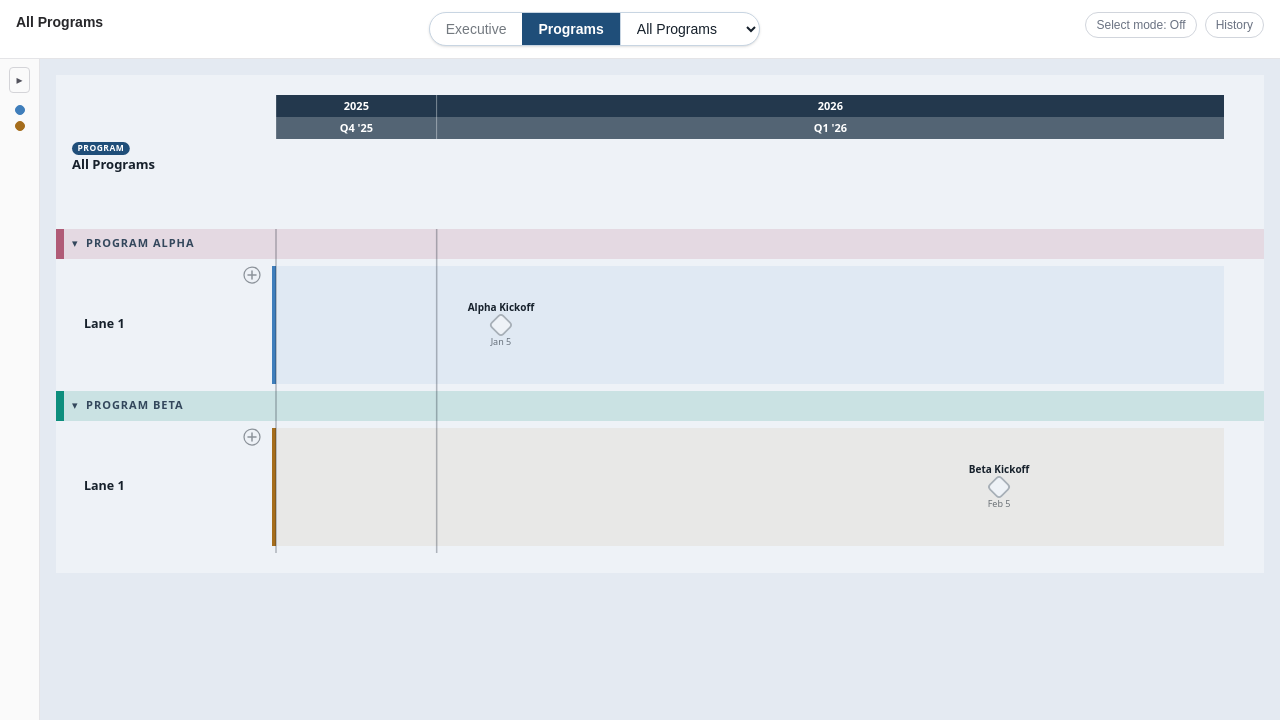
AllProgramsPage — Version History (wayframe#128, #127's Variant B) › selecting a Version swaps the canvas in place, leaving the list on screen
The image size is (1280, 720).
Click the button named "Open the Programs rail" at (20, 80), box [10,67,30,93]
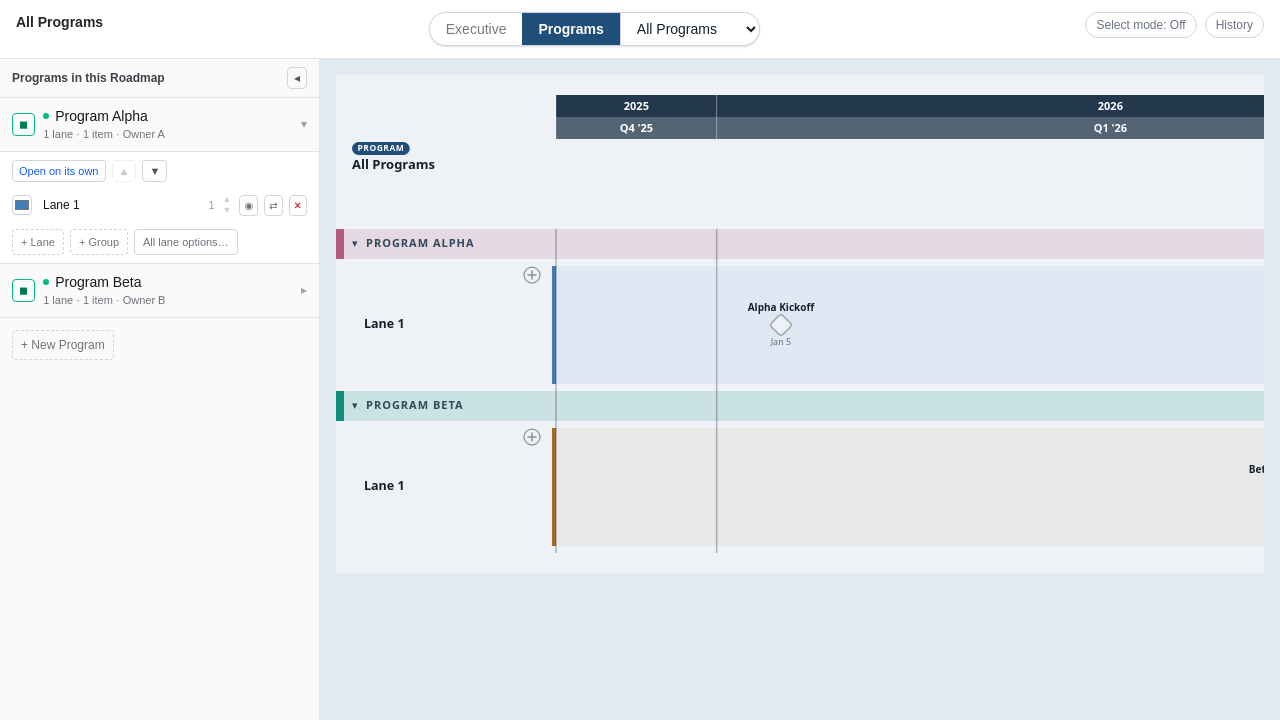
Click the button "History" at (1234, 25), box [1205,12,1264,38]
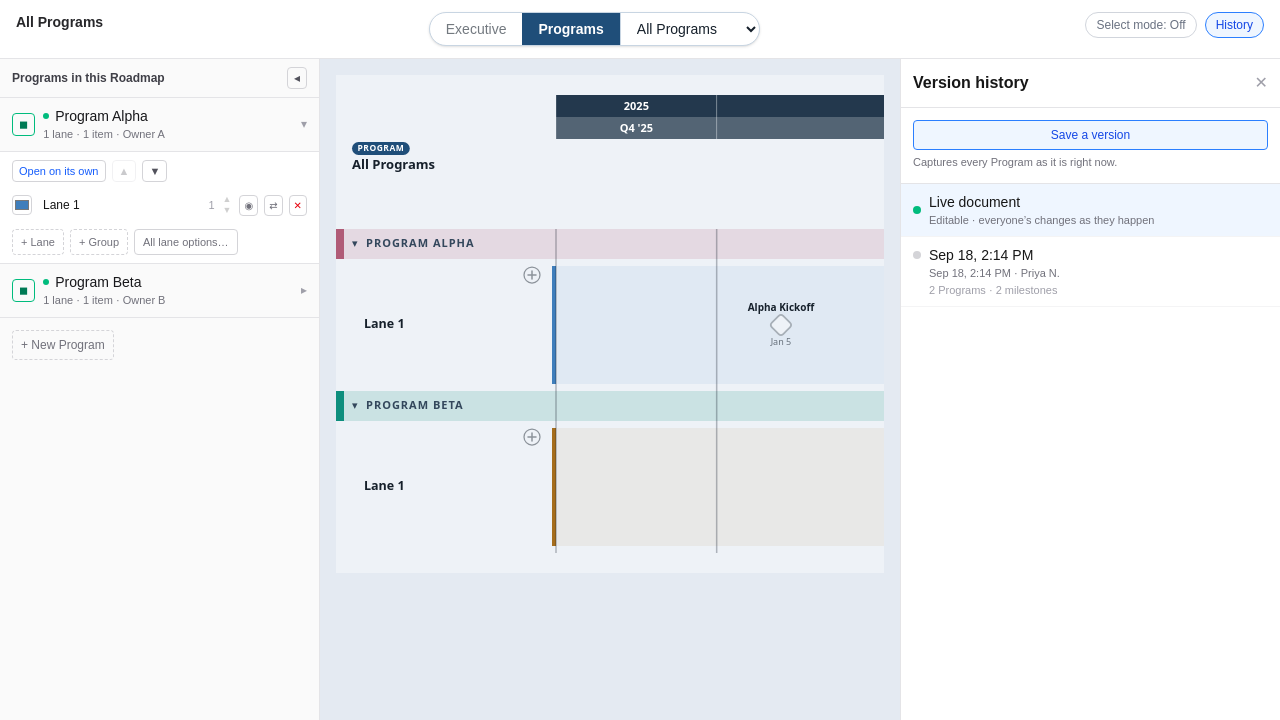
Now the text "2 Programs · 2 milestones" is shown
Click the text "2 Programs · 2 milestones" at (993, 290), box [929,284,1057,296]
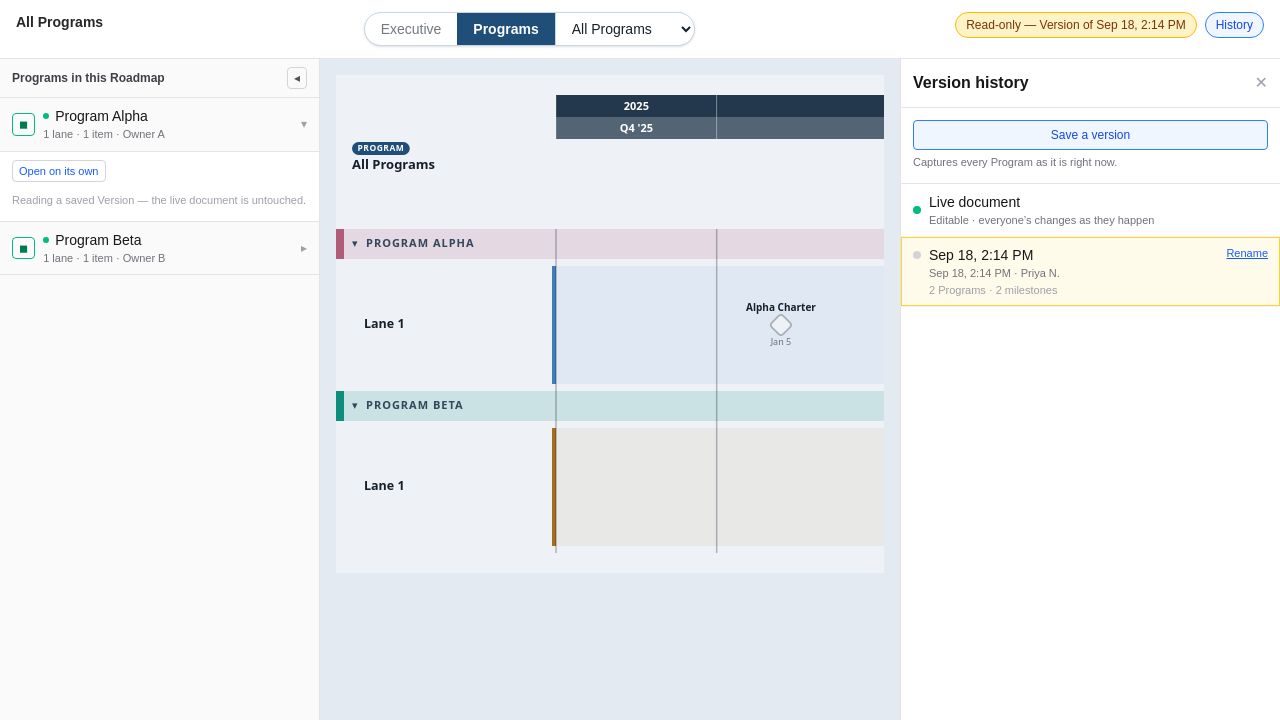
Now the text "Read-only — Version of Sep 18, 2:14 PM" is shown, box [955,12,1197,38]
